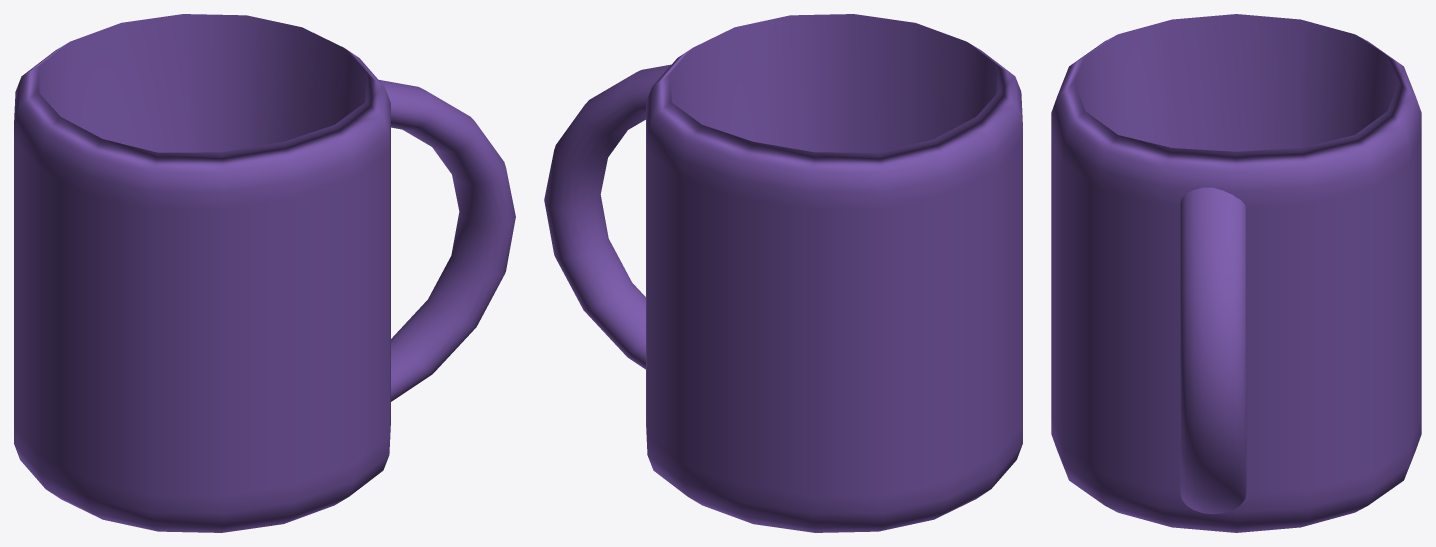
File: CoffeeCup.fbx
3 views of the same model, side by side, from view 1: azimuth 30°, elevation 25°; view 2: azimuth 150°, elevation 25°; view 3: azimuth 270°, elevation 25° (orthographic).
Visible parts, largest first — view 1: pCube1, polySurface1; view 2: pCube1, polySurface1; view 3: pCube1, polySurface1.
Boxes of the visible parts, x1,y1,x2,y2 form: pCube1: [14, 14, 390, 532]; polySurface1: [379, 80, 515, 401]; pCube1: [646, 14, 1022, 532]; polySurface1: [544, 64, 670, 369]; pCube1: [1051, 14, 1421, 532]; polySurface1: [1180, 187, 1246, 514].
Size of the model in its own units: 0.588 by 0.4917 by 0.4129.
